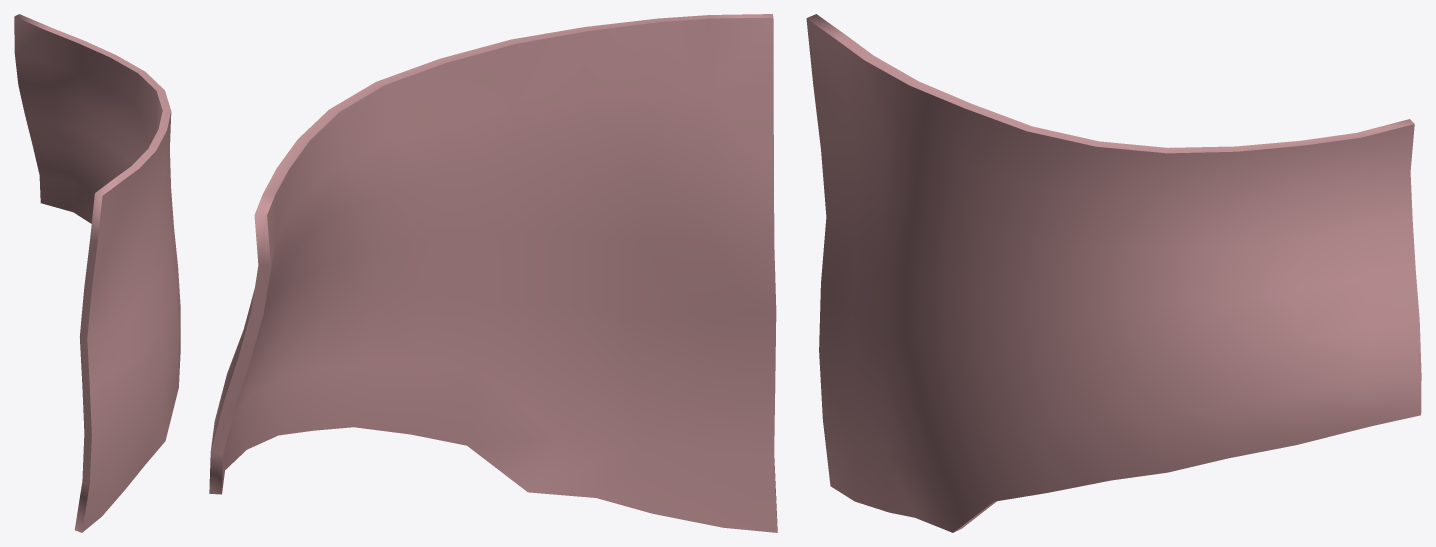
3 views of the same model, side by side, from view 1: azimuth 30°, elevation 25°; view 2: azimuth 150°, elevation 25°; view 3: azimuth 270°, elevation 25° (orthographic). The views are drawn at different scales.
Parts seen in each view (by area): view 1: ZA_845e0d8fe6a93309; view 2: ZA_845e0d8fe6a93309; view 3: ZA_845e0d8fe6a93309.
Boxes of the visible parts, <box> form: ZA_845e0d8fe6a93309: <box>14,14,180,532</box>; ZA_845e0d8fe6a93309: <box>209,14,777,532</box>; ZA_845e0d8fe6a93309: <box>806,14,1421,532</box>.
Size of the model in its own units: 0.0841 by 0.1315 by 0.1535.
